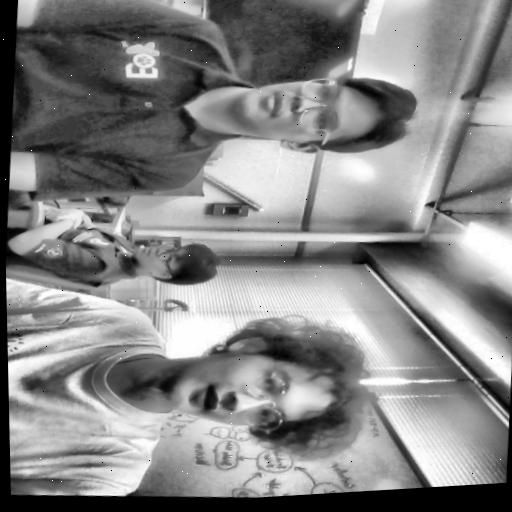Daifuku: (164, 297, 391, 470)
Not Daifuku: (236, 72, 421, 163), (130, 236, 231, 293)
